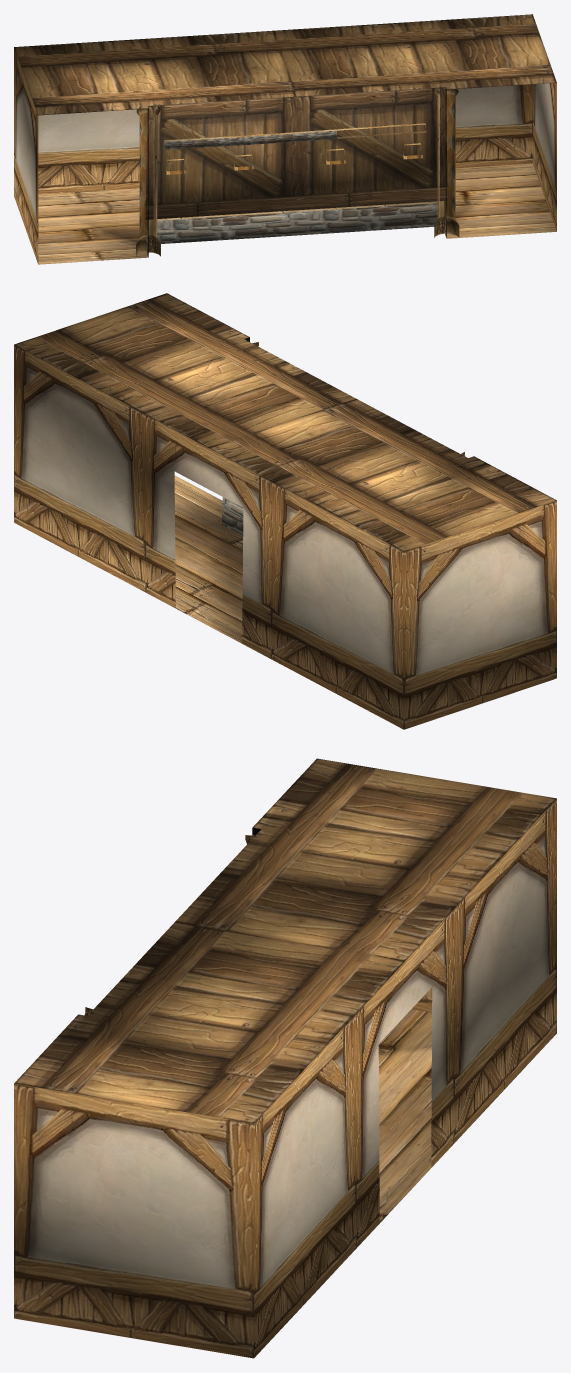
Rendered from stormwind_227.fbx.
3 renders of one model, top to bottom at view 1: azimuth 30°, elevation 25°; view 2: azimuth 150°, elevation 25°; view 3: azimuth 270°, elevation 25°, orthographic. The views are drawn at different scales.
Parts seen in each view (by area): view 1: stormwind_227_55, stormwind_227_56, stormwind_227_48, stormwind_227_51, stormwind_227_38, stormwind_227_53, stormwind_227_54, stormwind_227_50, stormwind_227_49; view 2: stormwind_227_48, stormwind_227_55, stormwind_227_51, stormwind_227_38; view 3: stormwind_227_48, stormwind_227_55, stormwind_227_51.
Part boxes in pixels (x1,y1,x2,y2): stormwind_227_55: (14,14,556,115); stormwind_227_56: (145,87,447,219); stormwind_227_48: (14,48,556,264); stormwind_227_51: (38,163,556,264); stormwind_227_38: (146,130,445,254); stormwind_227_53: (136,88,459,257); stormwind_227_54: (164,123,426,172); stormwind_227_50: (147,87,446,257); stormwind_227_49: (148,89,445,256); stormwind_227_48: (14,344,556,729); stormwind_227_55: (14,293,556,551); stormwind_227_51: (174,475,243,643); stormwind_227_38: (222,497,243,535); stormwind_227_48: (14,799,556,1358); stormwind_227_55: (14,758,556,1123); stormwind_227_51: (378,1009,431,1223).
Bounding box in the file's own units: 19.81 × 5.95 × 12.45.
